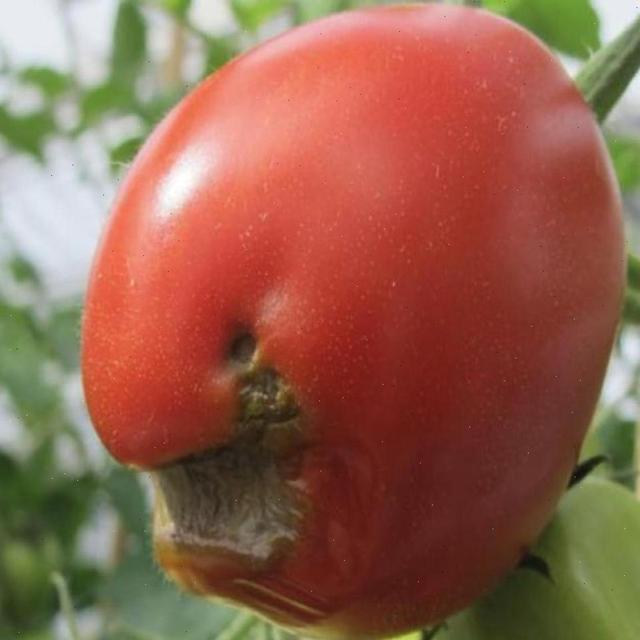Blossom End Rot Fruit: (75, 213, 242, 399)
